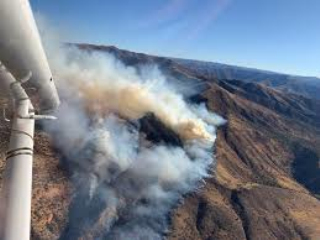smoke: (111, 72, 224, 143), (131, 146, 221, 195)
